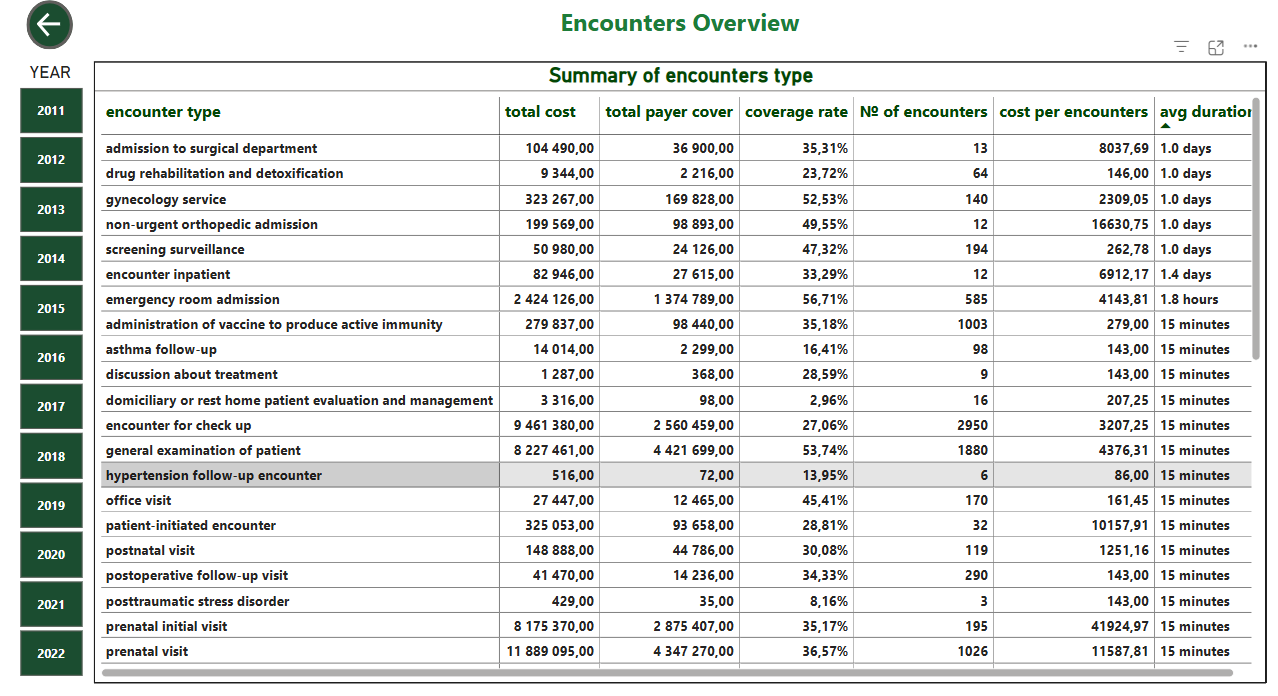

The dashboard page shown, as its layout file describes it:
{"tool":"powerbi","page":{"name":"Encounters Overvie","canvas":[1280,720],"ordinal":3},"visuals":[{"type":"slicer","title":"YEAR","fields":{"Values":["date_table.Year"]},"box":[0,72.6,111.7,618.5],"z":0},{"type":"textbox","title":"Encounters Overview","box":[452.4,11.2,459.3,50.3],"z":1000},{"type":"tableEx","title":"Summary of encounters type ","fields":{"Values":["encounters.type_encounter","_measures (2).total cost","_measures (2).total payer cover","_measures (2).coverage rate","_measures (2).number of encounters","_measures (2).avg total cost","_measures (2).encounters duration label"]},"box":[99.1,72.6,1167.2,618.5],"z":2000},{"type":"actionButton","box":[32.1,11.2,46.1,48.9],"z":3000}]}

Visuals, with their boxes on the page's 1280x720 design canvas (x1, y1, x2, y2). These are canvas units, not pixel positions in the 1278x696 screenshot, which may show the page scaled, cropped or inside an application window:
"YEAR" slicer: {"left": 0, "top": 73, "right": 112, "bottom": 691}
"Encounters Overview" textbox: {"left": 452, "top": 11, "right": 912, "bottom": 62}
"Summary of encounters type " tableEx: {"left": 99, "top": 73, "right": 1266, "bottom": 691}
actionButton: {"left": 32, "top": 11, "right": 78, "bottom": 60}
